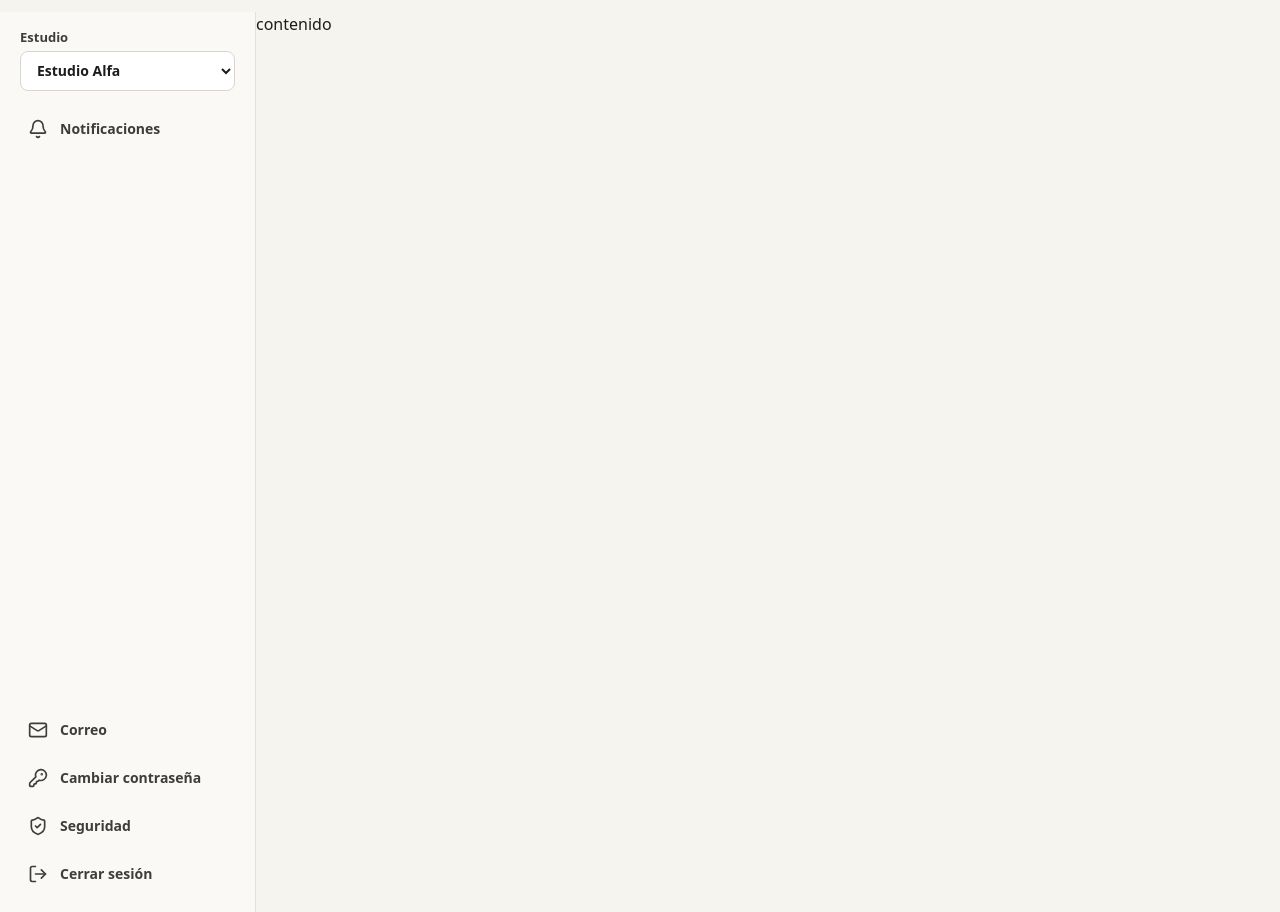
Test case: (app)/layout · cerrar sesión y cambio de estudio (018 T4a) › si el servidor falla (500) no sale de la pantalla y avisa
The image size is (1280, 912).
Expected: the dropdown labelled "Estudio" is shown, [20,51,235,91]
Click the button "Cerrar sesión" at (128, 874), box [16,852,239,896]
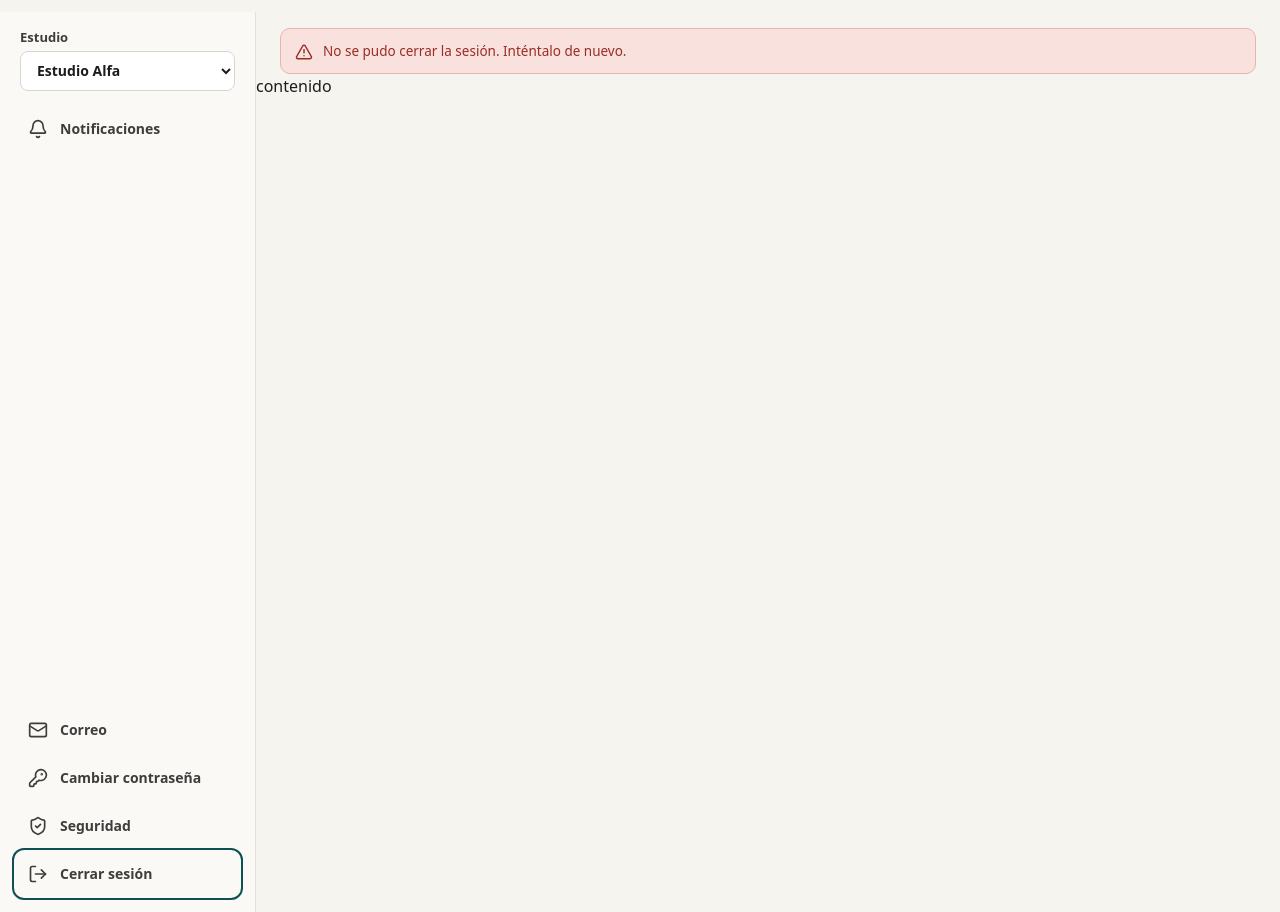
Expected: the message shows "No se pudo cerrar la sesión", [323,42,626,60]
